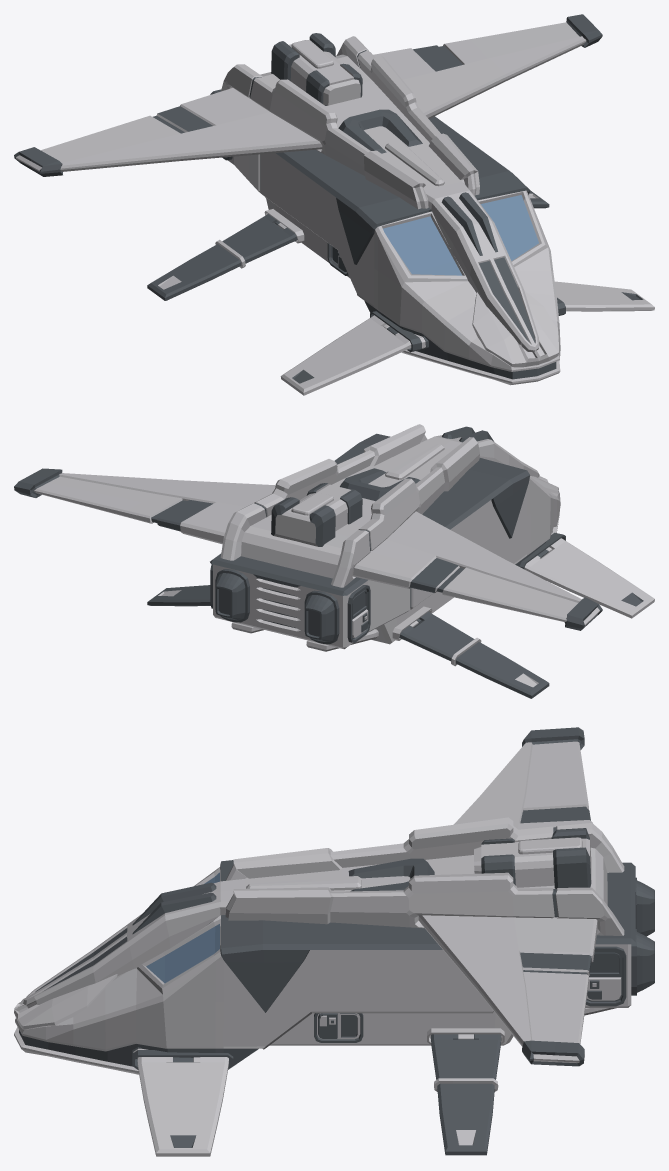
The model's file is Fighter_04_Neutral.fbx.
The picture shows the model from 3 angles, top to bottom: view 1: azimuth 30°, elevation 25°; view 2: azimuth 150°, elevation 25°; view 3: azimuth 270°, elevation 25°; orthographic projection. The views are drawn at different scales.
Visible parts, largest first — view 1: Fighter_04_Neutral; view 2: Fighter_04_Neutral; view 3: Fighter_04_Neutral.
Part boxes in pixels (<box>): Fighter_04_Neutral: <box>14,14,654,395</box>; Fighter_04_Neutral: <box>14,424,654,698</box>; Fighter_04_Neutral: <box>14,727,654,1156</box>.
Size of the model in its own units: 1945 by 600 by 1602.
Materials: 3 (3 with a texture image).
